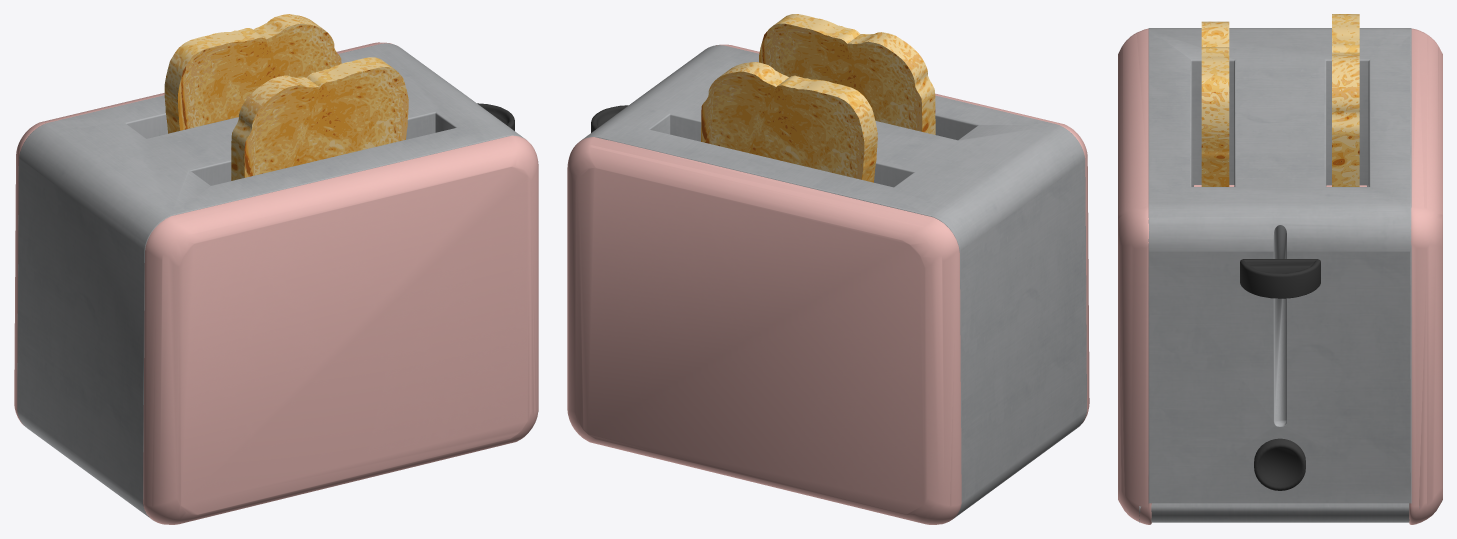
Rendered from SM_Toaster.fbx.
The picture shows the model from 3 angles, left to right: view 1: azimuth 30°, elevation 25°; view 2: azimuth 150°, elevation 25°; view 3: azimuth 270°, elevation 25°; orthographic projection. The views are drawn at different scales.
Visible parts, largest first — view 1: ranuras; view 2: ranuras; view 3: ranuras.
Part boxes in pixels (left/top/right/bottom): ranuras: left=14, top=14, right=538, bottom=524; ranuras: left=567, top=14, right=1089, bottom=524; ranuras: left=1118, top=14, right=1442, bottom=524.
Bounding box in the file's own units: 29.25 × 24.96 × 18.35.
